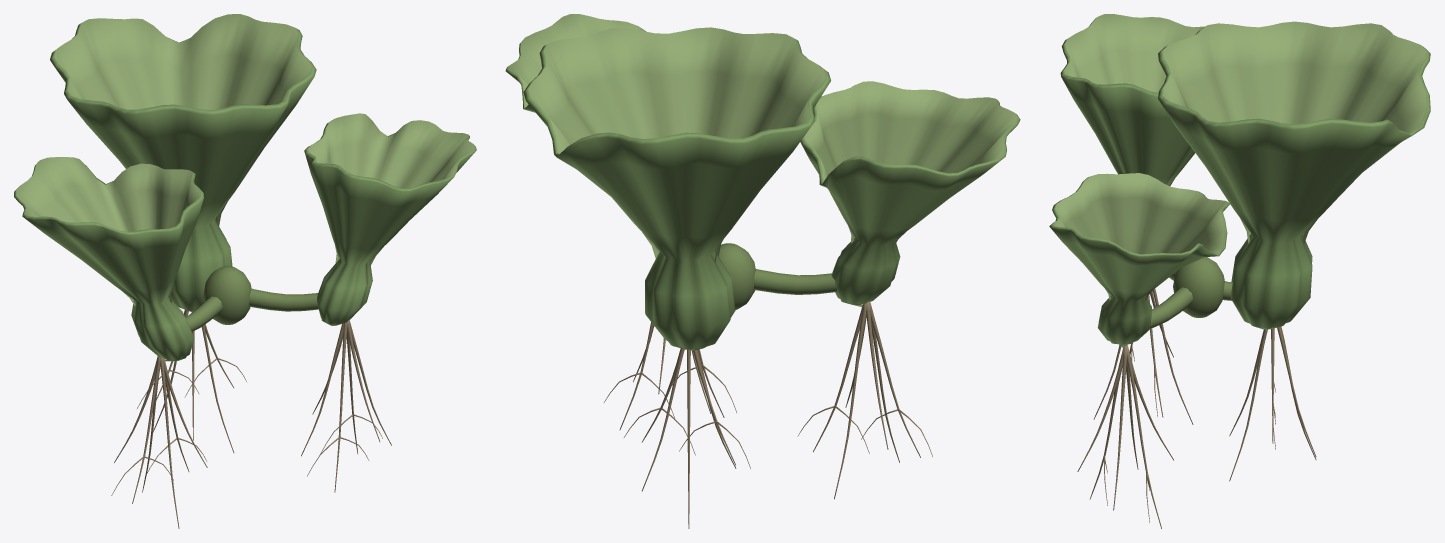
The model's file is cobbania.glb.
3 views of the same model, side by side, from view 1: azimuth 30°, elevation 25°; view 2: azimuth 150°, elevation 25°; view 3: azimuth 270°, elevation 25° (orthographic). The views are drawn at different scales.
Parts seen in each view (by area): view 1: three-radially-folded-trumpet-leaves-with-basal-pouches, freshwater-hanging-root-fan, short-common-floating-axis; view 2: three-radially-folded-trumpet-leaves-with-basal-pouches, freshwater-hanging-root-fan, short-common-floating-axis; view 3: three-radially-folded-trumpet-leaves-with-basal-pouches, freshwater-hanging-root-fan, short-common-floating-axis.
Part boxes in pixels (bbox=[...]): three-radially-folded-trumpet-leaves-with-basal-pouches: bbox=[14, 14, 476, 361]; freshwater-hanging-root-fan: bbox=[111, 310, 391, 528]; short-common-floating-axis: bbox=[185, 266, 318, 331]; three-radially-folded-trumpet-leaves-with-basal-pouches: bbox=[505, 14, 1020, 350]; freshwater-hanging-root-fan: bbox=[604, 301, 932, 528]; short-common-floating-axis: bbox=[718, 243, 837, 310]; three-radially-folded-trumpet-leaves-with-basal-pouches: bbox=[1049, 14, 1430, 347]; freshwater-hanging-root-fan: bbox=[1077, 288, 1316, 528]; short-common-floating-axis: bbox=[1150, 257, 1232, 328].
Size of the model in its own units: 0.1798 by 0.1518 by 0.1298.
